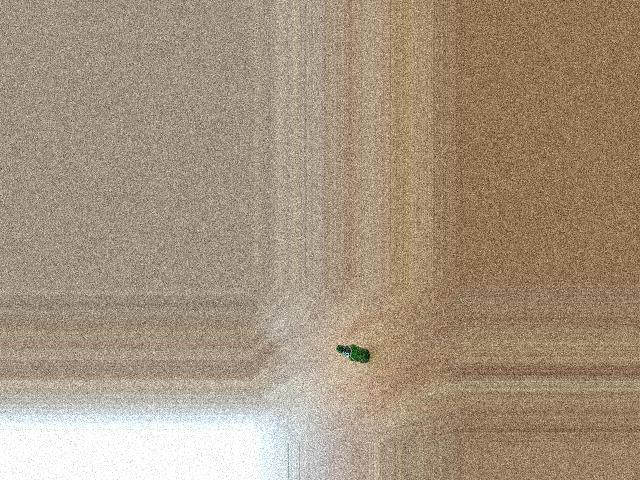beer: (336, 344, 370, 364)
